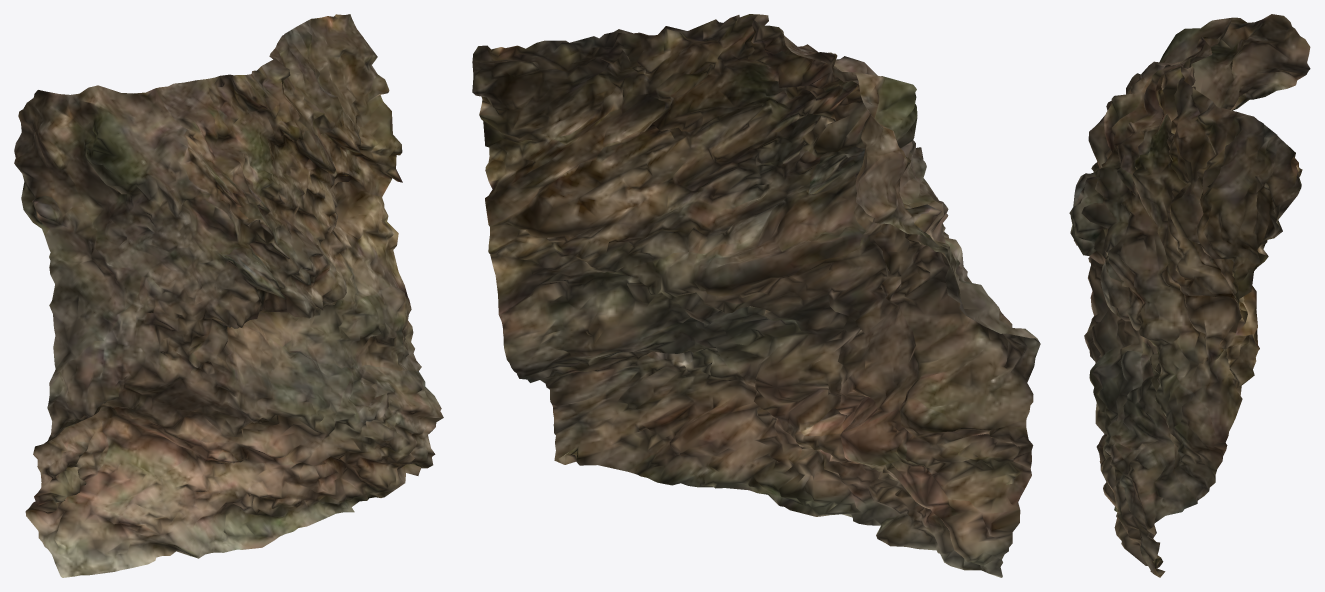
Rendered from mountainside-far.glb.
The picture shows the model from 3 angles, left to right: view 1: azimuth 30°, elevation 25°; view 2: azimuth 150°, elevation 25°; view 3: azimuth 270°, elevation 25°; orthographic projection. The views are drawn at different scales.
Visible parts, largest first — view 1: mountainside; view 2: mountainside; view 3: mountainside.
Part boxes in pixels (x1,y1,x2,y2): mountainside: (14,14,443,577); mountainside: (472,14,1040,577); mountainside: (1069,14,1310,577).
Bounding box in the file's own units: 10.2 × 10.52 × 5.24.
1 material, 1 textured.
